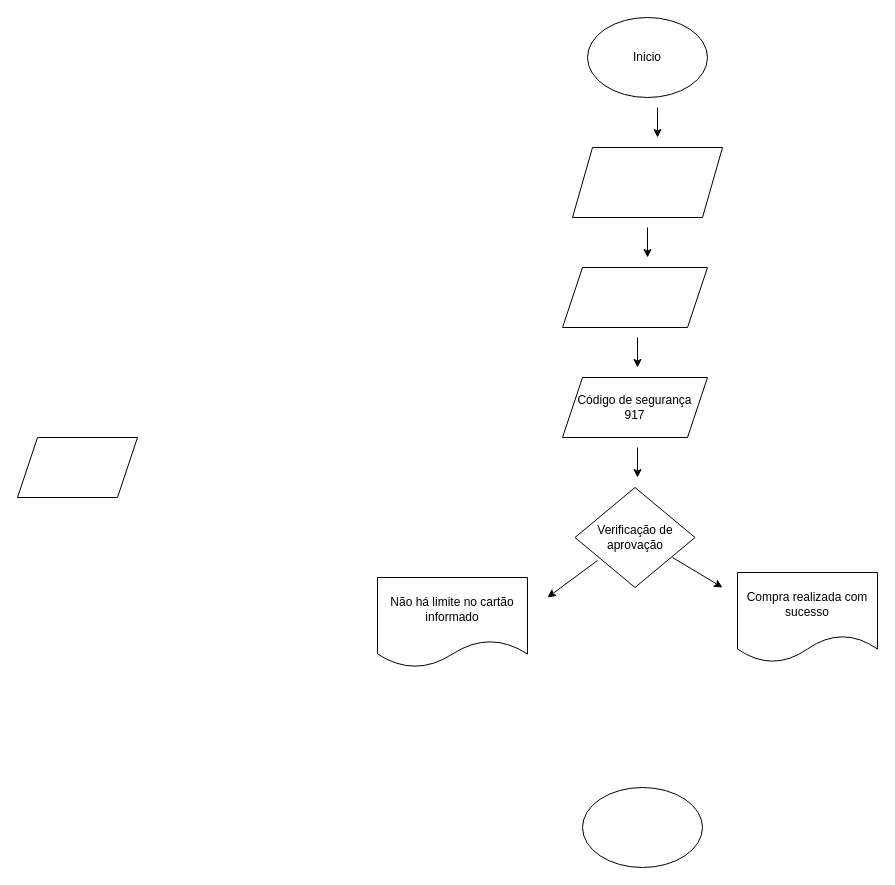
This 895x885 diagram has some shape labels left out. The centre of each missing label's shape, as x and y in pixels:
"Data de Validade 27/12/2021" goes at [635,297].
"Fim" goes at [642,827].
"Nº do cartão 5488 4966 6321 7677" goes at [647,182].
